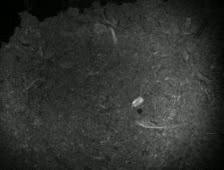corn: (129, 94, 146, 110)
